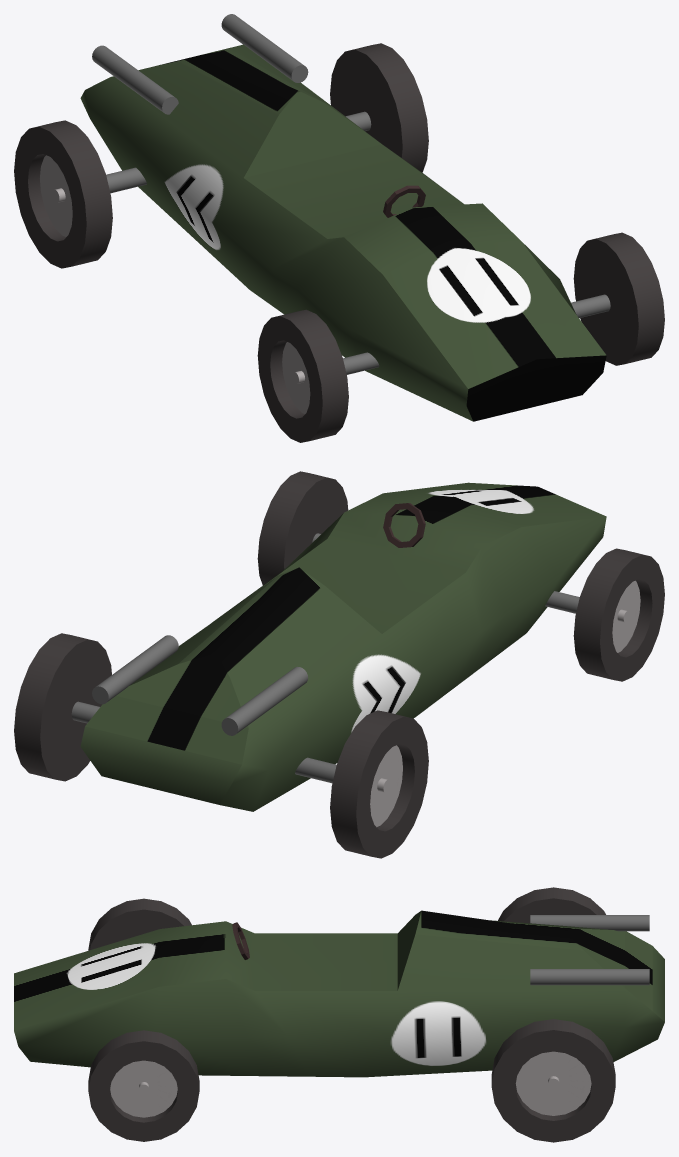
The model's file is Cooper_T_43_export.fbx.
3 renders of one model, top to bottom at view 1: azimuth 30°, elevation 25°; view 2: azimuth 150°, elevation 25°; view 3: azimuth 270°, elevation 25°, orthographic. The views are drawn at different scales.
Parts seen in each view (by area): view 1: cooper_body, left_back_wheel2, left_back_wheel3, left_back_wheel1, left_back_wheel, pCylinder1, pCylinder14, pCylinder13, pCylinder8; view 2: cooper_body, left_back_wheel2, left_back_wheel, left_back_wheel3, left_back_wheel1, pCylinder14, pCylinder1, pCylinder8, pCylinder7, pCylinder13; view 3: cooper_body, left_back_wheel, left_back_wheel1, left_back_wheel3, left_back_wheel2, pCylinder1, pCylinder14.
Part boxes in pixels (x1,y1,x2,y2): cooper_body: (80, 44, 606, 421); left_back_wheel2: (14, 120, 112, 268); left_back_wheel3: (257, 309, 348, 442); left_back_wheel1: (573, 232, 664, 365); left_back_wheel: (330, 43, 428, 172); pCylinder1: (221, 14, 308, 82); pCylinder14: (92, 45, 178, 114); pCylinder13: (343, 294, 610, 374); pCylinder8: (106, 111, 371, 193); cooper_body: (80, 482, 606, 811); left_back_wheel2: (330, 710, 428, 858); left_back_wheel: (14, 633, 111, 781); left_back_wheel3: (573, 548, 664, 681); left_back_wheel1: (257, 471, 348, 585); pCylinder14: (221, 666, 308, 735); pCylinder1: (92, 635, 178, 704); pCylinder8: (71, 701, 336, 783); pCylinder7: (383, 503, 425, 547); pCylinder13: (312, 533, 579, 613); cooper_body: (14, 910, 664, 1077); left_back_wheel: (491, 1019, 615, 1142); left_back_wheel1: (88, 1030, 199, 1141); left_back_wheel3: (88, 898, 191, 950); left_back_wheel2: (498, 887, 605, 923); pCylinder1: (530, 969, 649, 985); pCylinder14: (530, 915, 649, 931).
Size of the model in its own units: 5.86 by 3.08 by 11.3.
